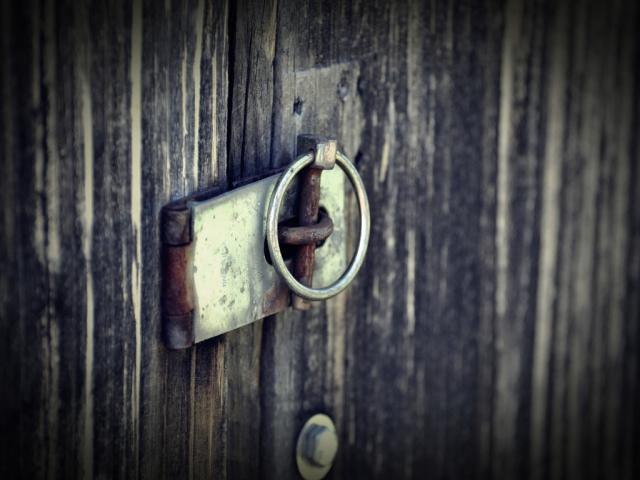Door-handle: (154, 132, 376, 358)
